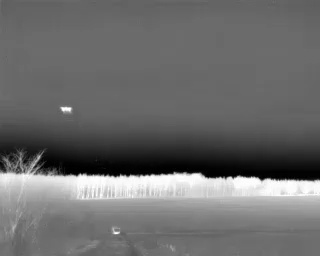DRONE: (56, 102, 77, 119)
